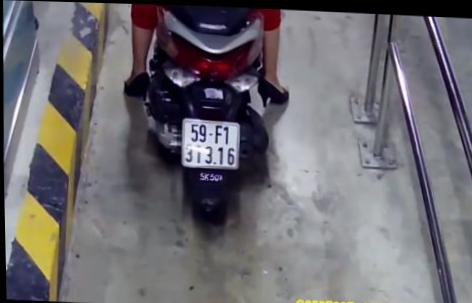LP: (180, 115, 241, 169)
